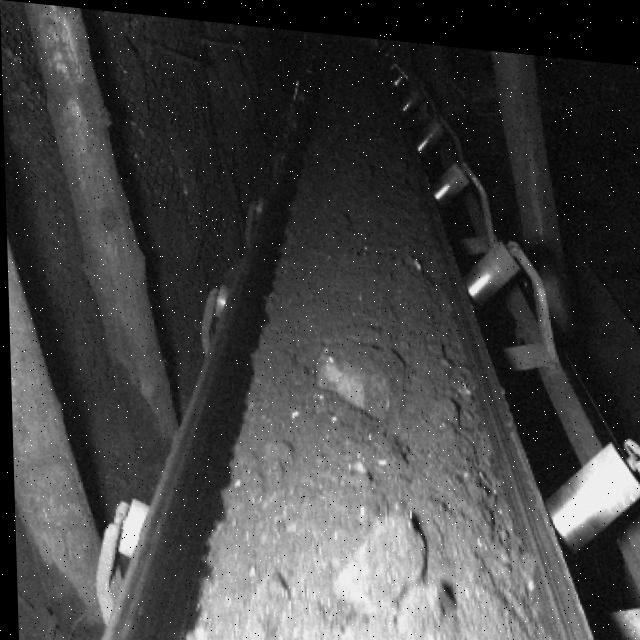large_sized_coal: (326, 492, 426, 617), (311, 327, 407, 411), (391, 568, 449, 640)
